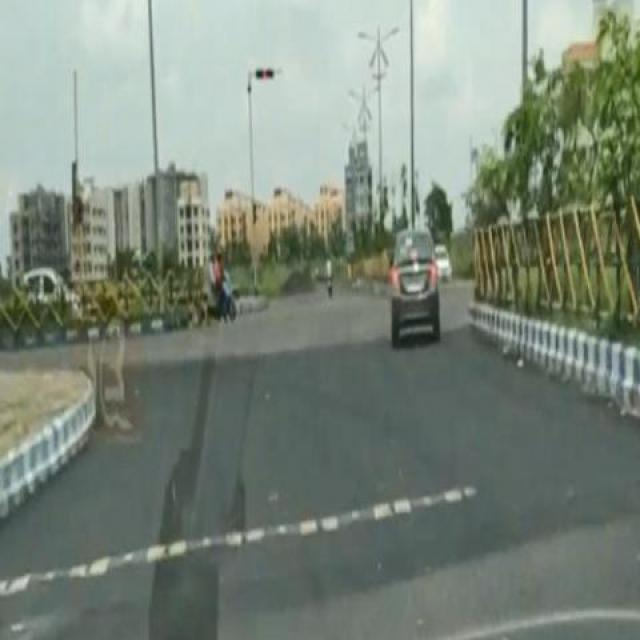Speed Bump: (0, 483, 481, 597)
